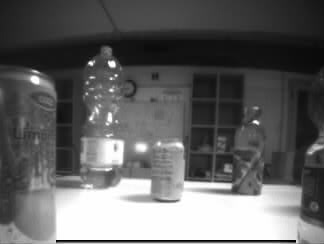Bottle: (83, 45, 123, 187), (234, 105, 264, 193), (300, 141, 324, 243)
Tin can: (1, 71, 56, 244), (152, 137, 184, 200)
